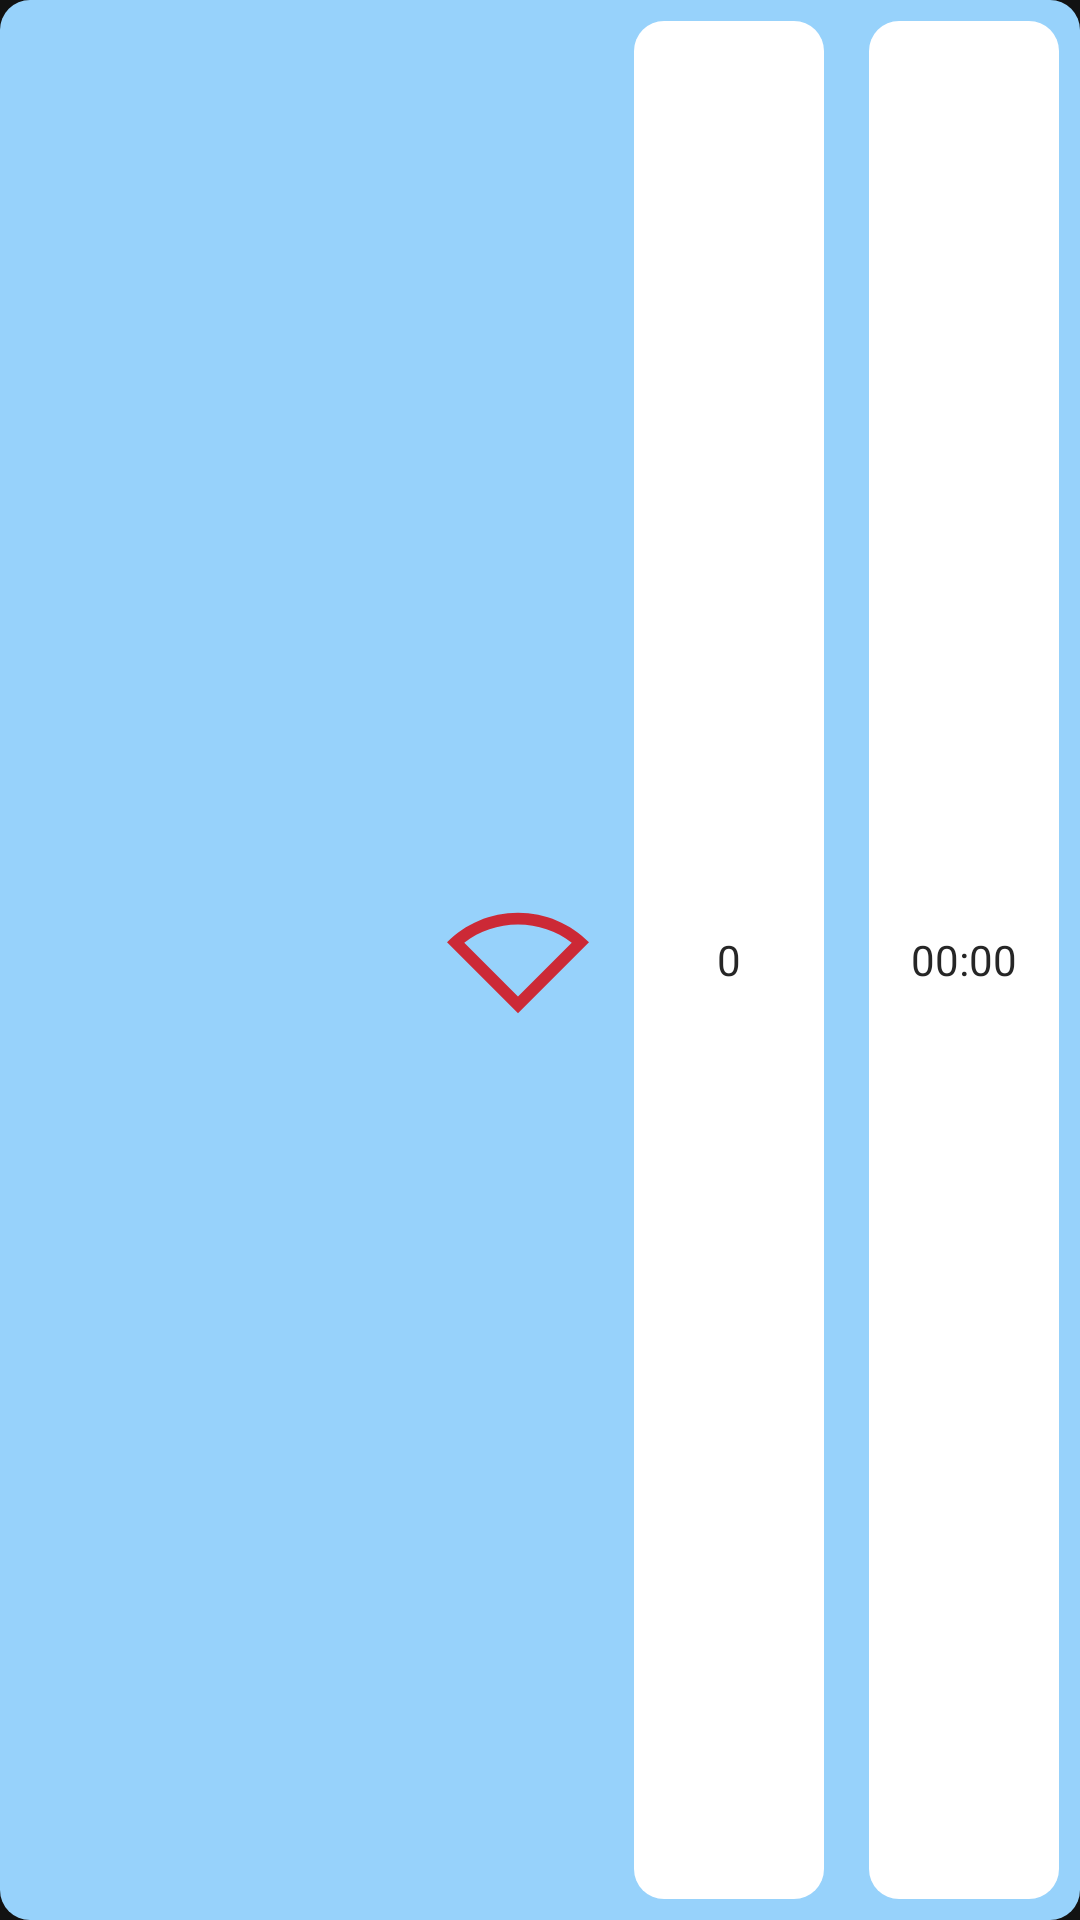

Where to tap for icons on this 1080*1920 app screen, as [x,y]:
wifi: [518,962]
